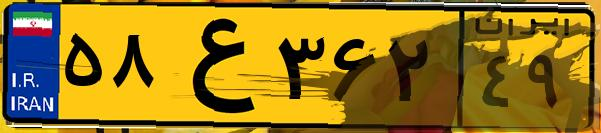2: (385, 28, 445, 110)
3: (270, 28, 330, 110)
4: (475, 38, 525, 113)
5: (57, 26, 110, 100)
6: (330, 28, 385, 110)
8: (110, 28, 158, 98)
9: (525, 38, 570, 115)
ع: (158, 12, 270, 120)
